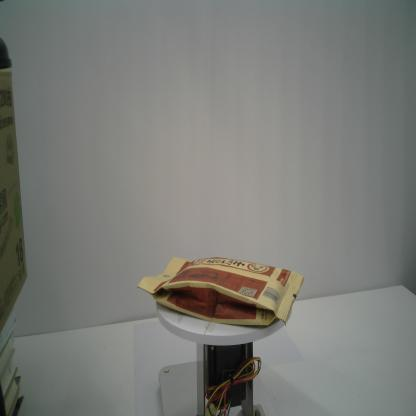Dried Food: (136, 256, 305, 326)
